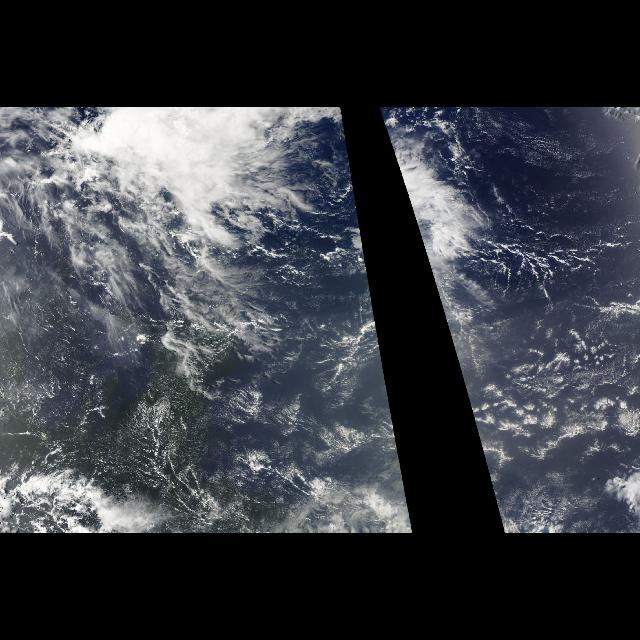Sugar: (5, 318, 399, 522), (478, 108, 640, 242)
